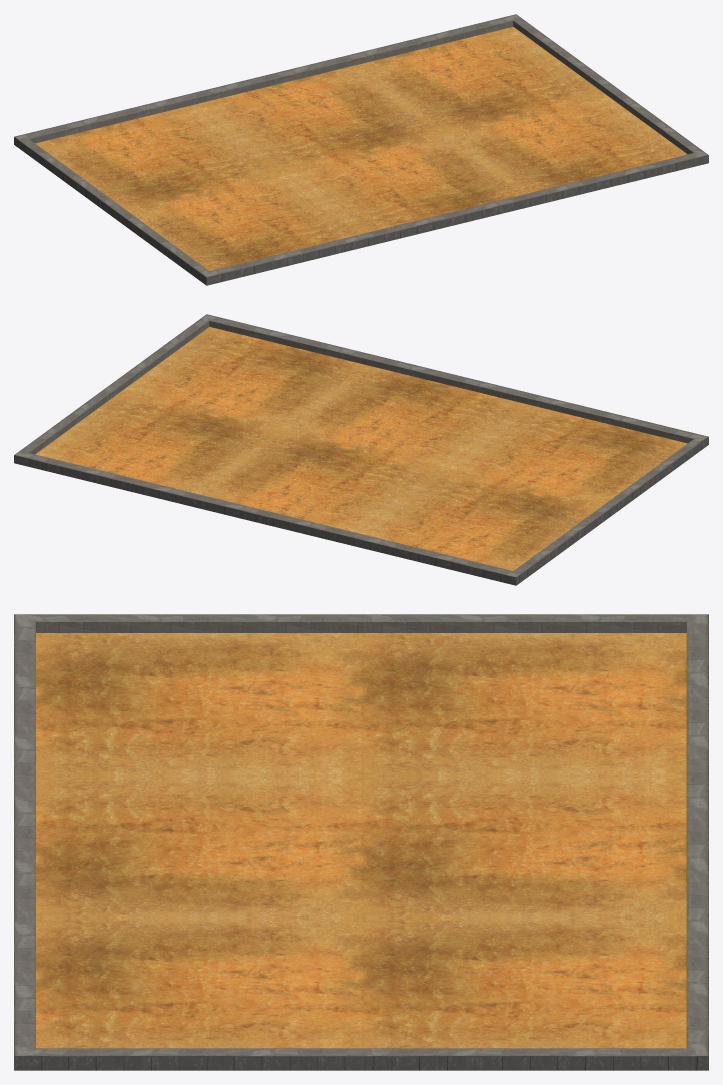
Rendered from gereen_beltsambase_sand_big.FBX.
3 renders of one model, top to bottom at view 1: azimuth 30°, elevation 25°; view 2: azimuth 150°, elevation 25°; view 3: azimuth 270°, elevation 25°, orthographic. The views are drawn at different scales.
Parts seen in each view (by area): view 1: gereen_beltsambaseSand001; view 2: gereen_beltsambaseSand001; view 3: gereen_beltsambaseSand001.
Boxes of the visible parts, box(x1,y1,x2,y2) form: gereen_beltsambaseSand001: box(14, 14, 708, 285); gereen_beltsambaseSand001: box(14, 314, 708, 585); gereen_beltsambaseSand001: box(14, 614, 708, 1070).
Bounding box in the file's own units: 19664 × 300 × 13065.
